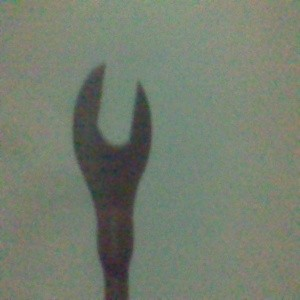spanner: (71, 63, 152, 300)
